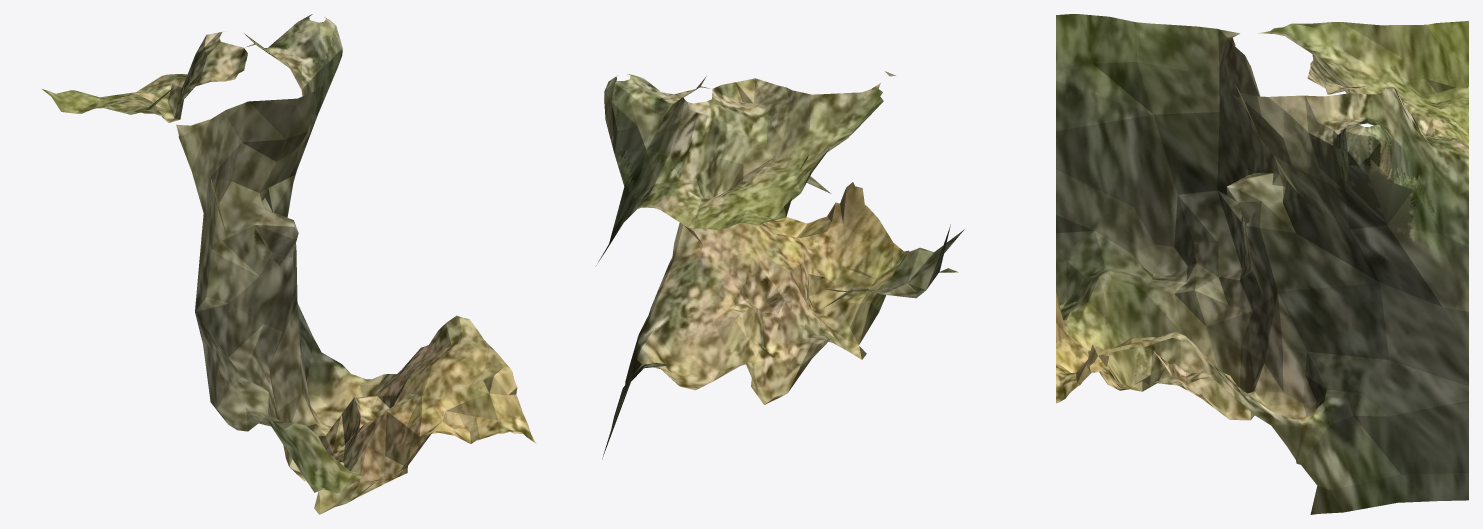
The picture shows the model from 3 angles, left to right: view 1: azimuth 30°, elevation 25°; view 2: azimuth 150°, elevation 25°; view 3: azimuth 270°, elevation 25°; orthographic projection. The views are drawn at different scales.
Size of the model in its own units: 2.14 by 2.95 by 2.95.
Materials: 4 (4 with a texture image).
